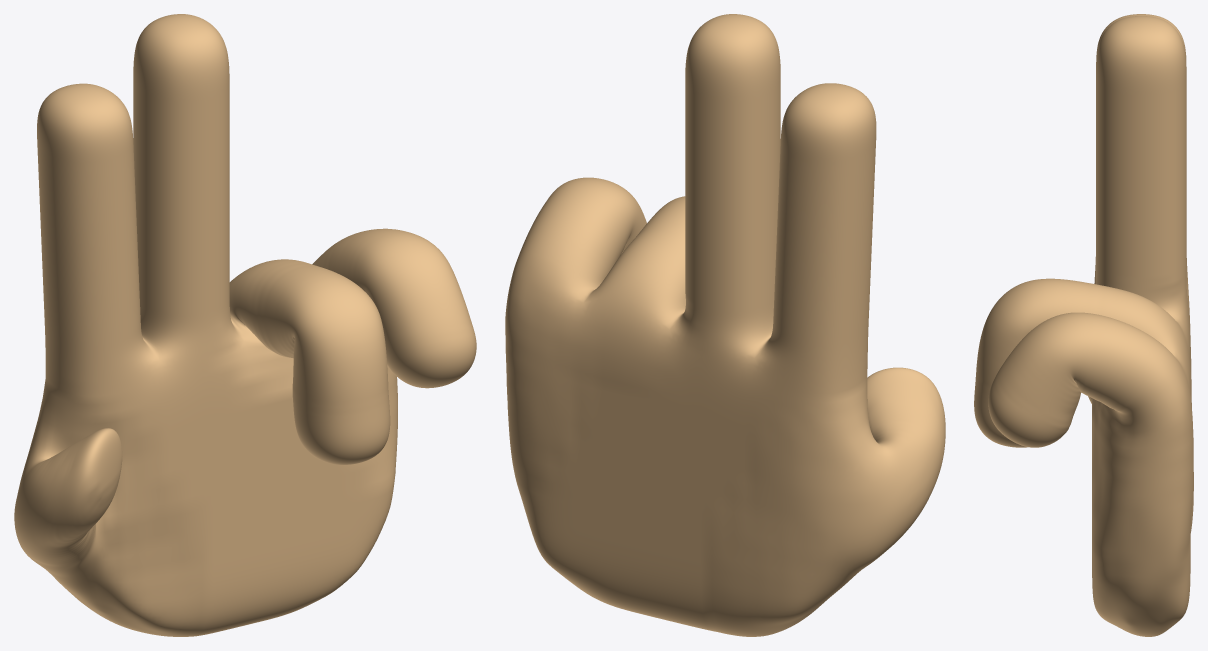
File: hand.glb
The picture shows the model from 3 angles, left to right: view 1: azimuth 30°, elevation 25°; view 2: azimuth 150°, elevation 25°; view 3: azimuth 270°, elevation 25°; orthographic projection. The views are drawn at different scales.
Parts seen in each view (by area): view 1: Cube; view 2: Cube; view 3: Cube.
Part boxes in pixels (left/top/right/bottom): Cube: left=14, top=14, right=476, bottom=636; Cube: left=505, top=14, right=945, bottom=636; Cube: left=974, top=14, right=1193, bottom=636.
Size of the model in its own units: 2.32 by 3.35 by 1.19.
